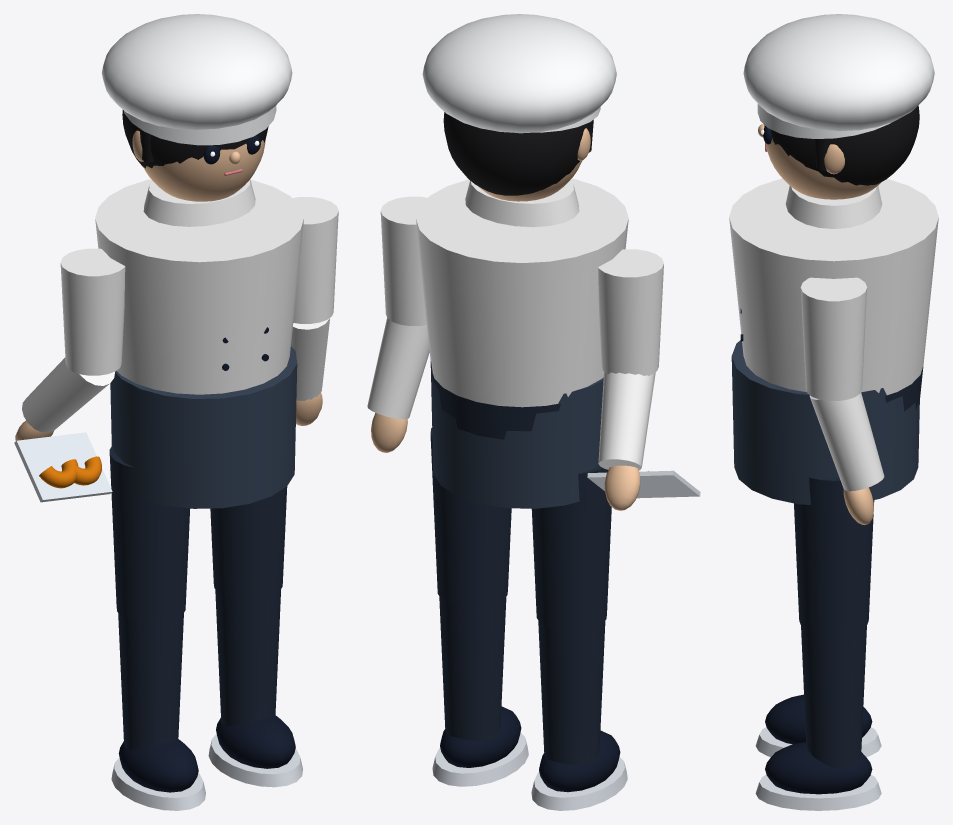
The model's file is ShiftSync_Chef.glb.
3 renders of one model, left to right at view 1: azimuth 30°, elevation 25°; view 2: azimuth 150°, elevation 25°; view 3: azimuth 270°, elevation 25°, orthographic.
Parts seen in each view (by area): view 1: Chest, ChefApron, HatPuff, LeftHip, RightKnee, LeftKnee, L_UpperArm, RightHip, LeftAnkle, RightAnkle, LeftWrist, R_UpperArm (+7 smaller); view 2: Chest, HatPuff, ChefApron, LeftHip, LeftKnee, RightKnee, RightHip, Hair_Crown, L_UpperArm, R_UpperArm, L_Forearm, LeftAnkle (+8 smaller); view 3: Chest, HatPuff, ChefApron, RightHip, RightKnee, R_UpperArm, RightAnkle, Hair_Crown, R_Forearm, Chef_Collar, LeftAnkle, Head_Cranium (+4 smaller).
Boxes of the visible parts, x1,y1,x2,y2 form: Chest: (95,179,303,394); ChefApron: (110,346,297,508); HatPuff: (102,14,292,129); LeftHip: (109,445,190,623); RightKnee: (215,589,280,726); LeftKnee: (118,613,183,749); L_UpperArm: (60,248,125,375); RightHip: (210,486,287,599); LeftAnkle: (111,739,205,810); RightAnkle: (208,715,302,787); LeftWrist: (14,432,112,502); R_UpperArm: (292,197,338,323); Chest: (416,178,628,407); HatPuff: (422,14,616,133); ChefApron: (430,361,603,508); LeftHip: (531,465,611,630); LeftKnee: (538,621,605,765); RightKnee: (439,596,506,741); RightHip: (430,427,511,606); Hair_Crown: (443,112,586,195); L_UpperArm: (598,249,663,375); R_UpperArm: (380,196,427,325); L_Forearm: (598,371,655,470); LeftAnkle: (531,730,627,810); Chest: (729,178,938,395); HatPuff: (743,14,934,131); ChefApron: (731,340,919,504); RightHip: (794,477,874,635); RightKnee: (801,626,866,768); R_UpperArm: (800,277,867,400); RightAnkle: (755,742,881,810); Hair_Crown: (771,105,919,185); R_Forearm: (809,392,884,491); Chef_Collar: (785,186,882,228); LeftAnkle: (755,694,881,756); Head_Cranium: (764,124,881,199).
Size of the model in its own units: 0.6834 by 1.6 by 0.41.
